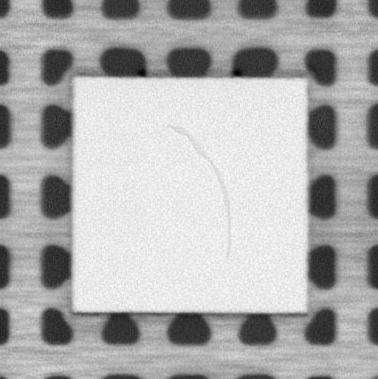DIE_CRACK: (172, 125, 233, 261)
